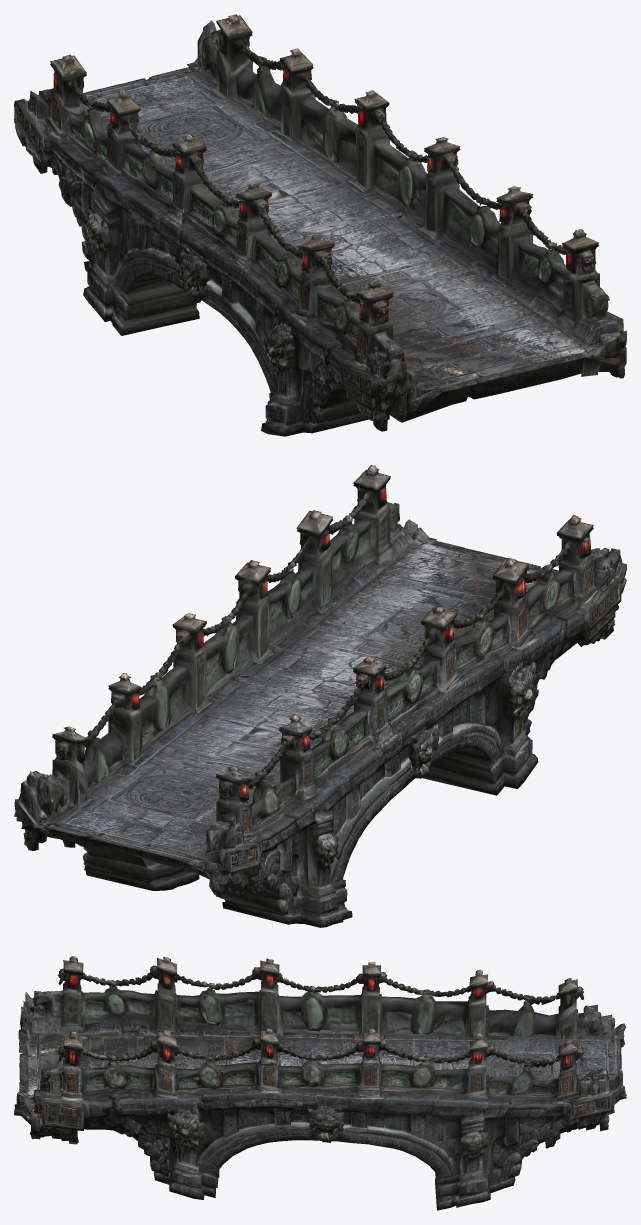
Rendered from bridge-module-deck-conditioned-30k-20261007-r1.glb.
3 views of the same model, one above another, from view 1: azimuth 30°, elevation 25°; view 2: azimuth 150°, elevation 25°; view 3: azimuth 270°, elevation 25° (orthographic). The views are drawn at different scales.
Parts seen in each view (by area): view 1: tripo_node_38051afa-3c7d-43ce-afbe-cb5a05aa1957; view 2: tripo_node_38051afa-3c7d-43ce-afbe-cb5a05aa1957; view 3: tripo_node_38051afa-3c7d-43ce-afbe-cb5a05aa1957.
Part boxes in pixels (x1,y1,x2,y2): tripo_node_38051afa-3c7d-43ce-afbe-cb5a05aa1957: [14, 14, 626, 436]; tripo_node_38051afa-3c7d-43ce-afbe-cb5a05aa1957: [14, 465, 626, 927]; tripo_node_38051afa-3c7d-43ce-afbe-cb5a05aa1957: [14, 956, 626, 1210].
Bounding box in the file's own units: 0.3739 × 0.308 × 0.9851.
Materials: 1 (1 with a texture image).
